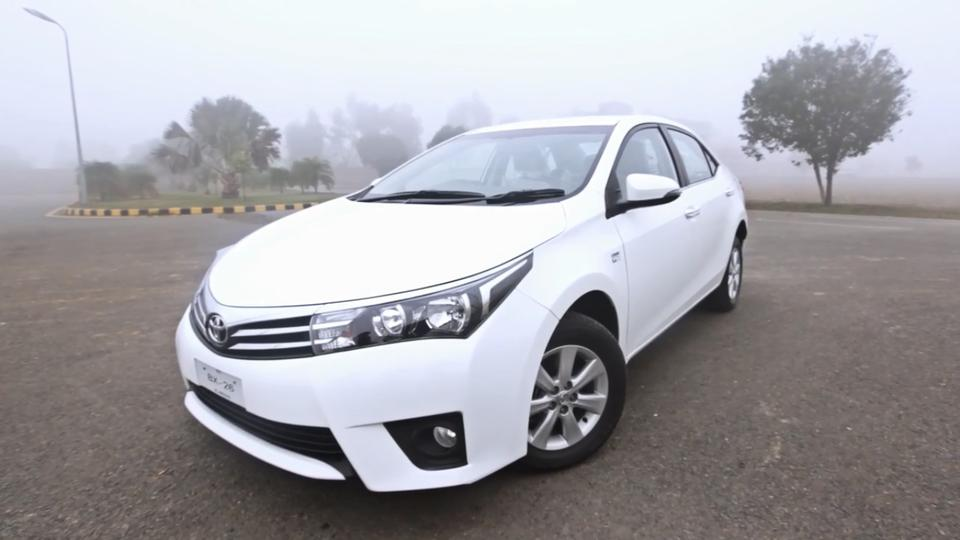NumberPlate: (188, 356, 254, 409)
